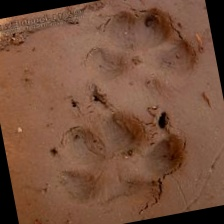fox: (38, 76, 194, 222)
